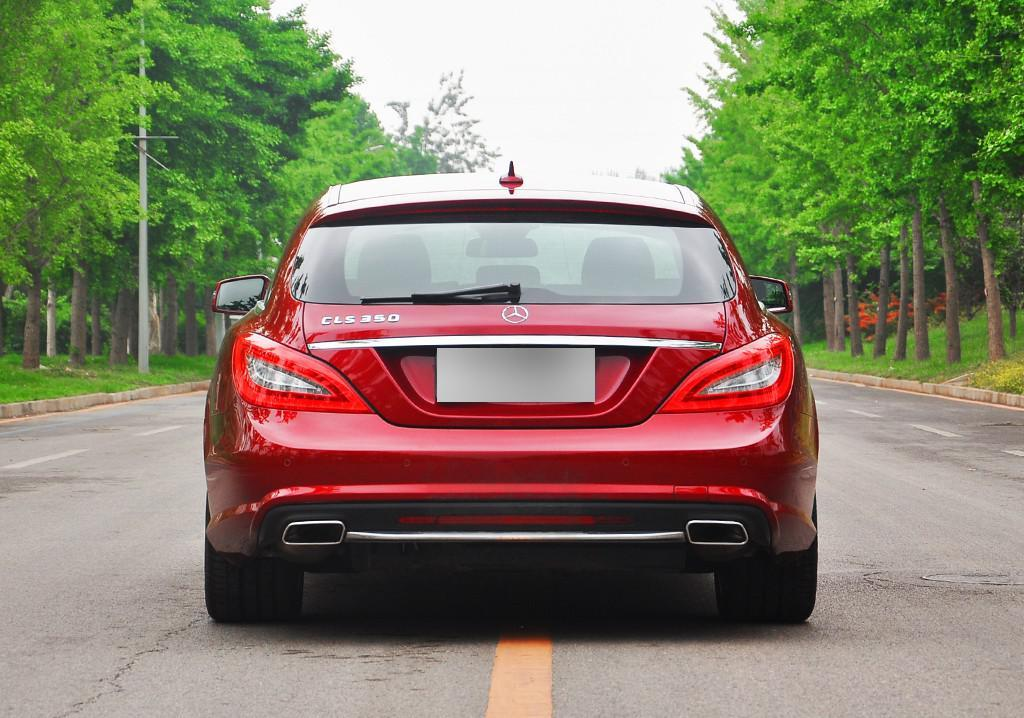Wagon: (201, 164, 818, 619)
